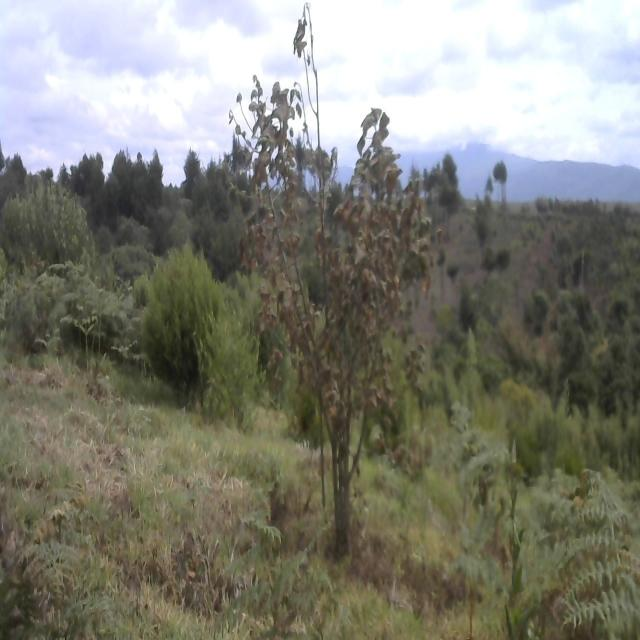cedrus: (138, 243, 221, 407)
other: (243, 53, 431, 560)
